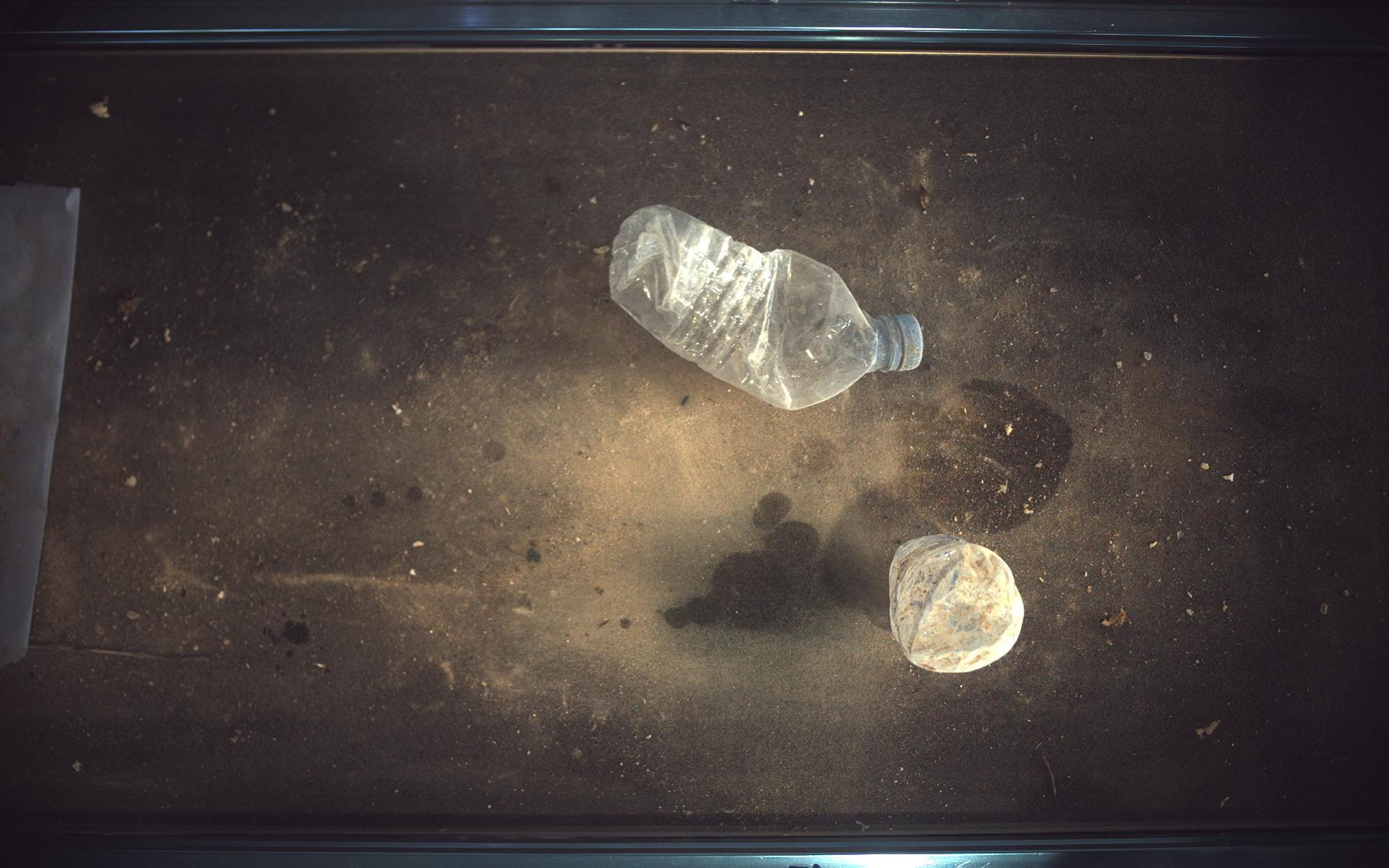general_w: (611, 205, 925, 409), (891, 535, 1027, 674)
